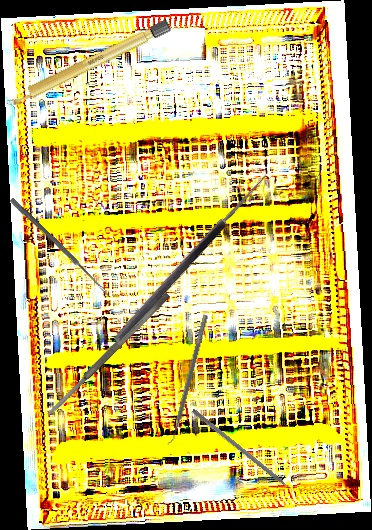Hook Surgical: (104, 162, 271, 345), (190, 408, 301, 500)
Scalpel Handle: (3, 18, 172, 110)
Spatula Surgical: (44, 291, 172, 418), (164, 312, 209, 449)
Surgical Spoon: (8, 197, 110, 295)
